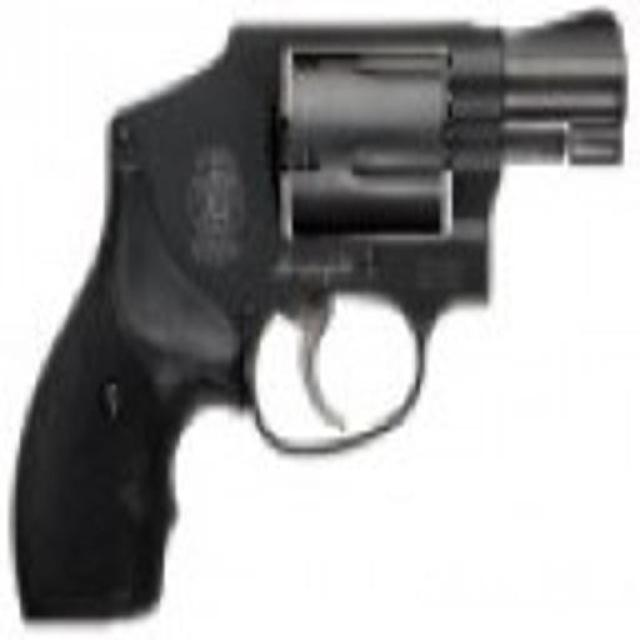pistol: (40, 15, 615, 612)
